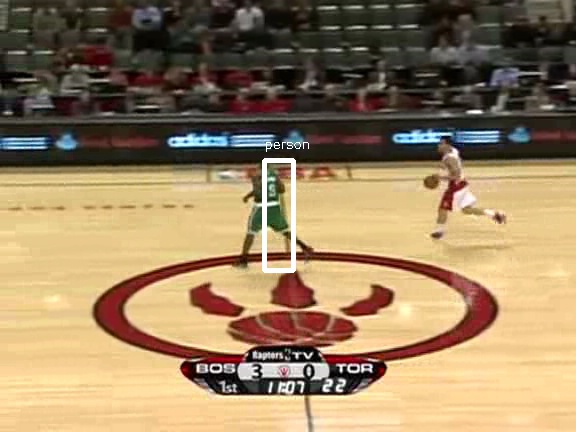person: (253, 164, 287, 245), (252, 164, 286, 245), (254, 164, 288, 245), (253, 163, 287, 244), (253, 165, 287, 246)
target_negative: (270, 137, 440, 395), (431, 56, 555, 236), (139, 408, 369, 425), (269, 323, 305, 424), (416, 408, 524, 428), (235, 409, 342, 422)
